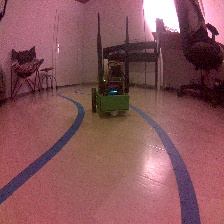rob: (90, 64, 130, 117)
